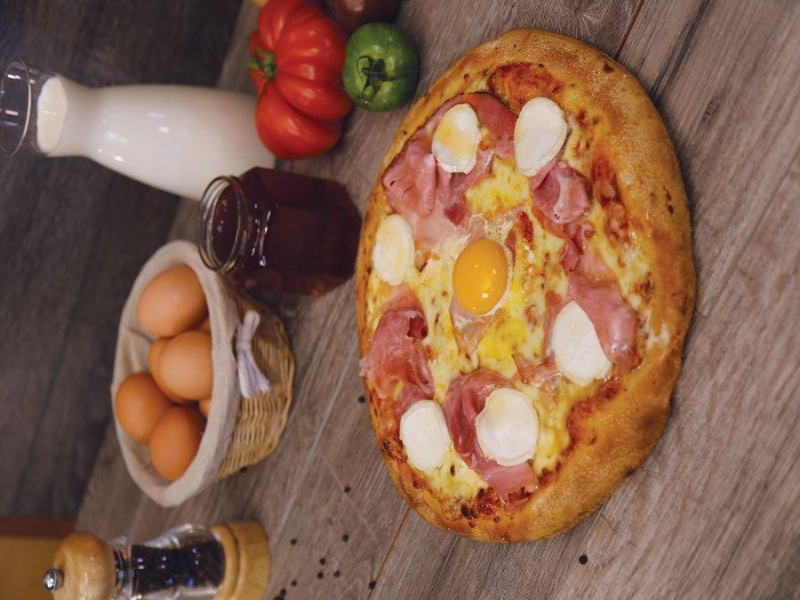oeuf: (436, 235, 525, 325)
